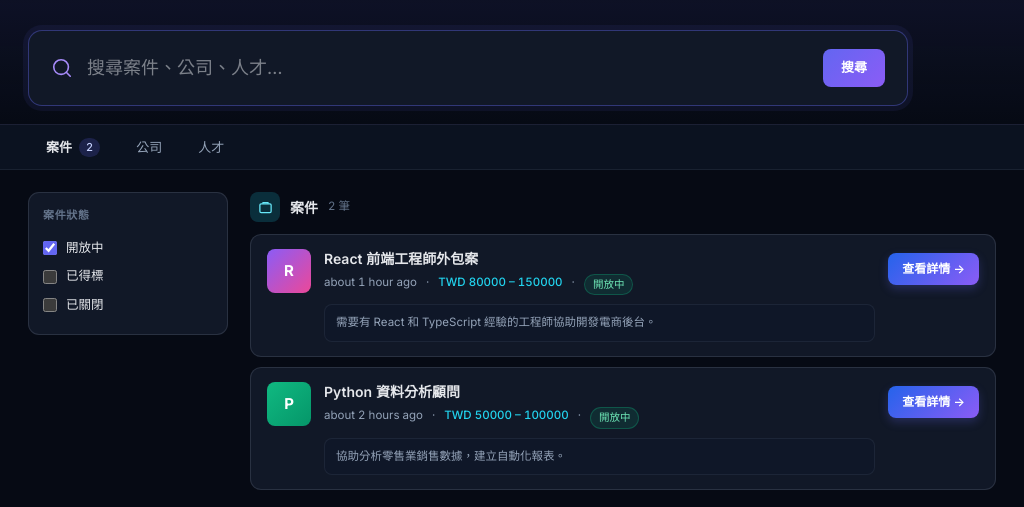
Test case: SearchPage — user interaction › switches to 公司 tab and shows empty-state
Step 1. Click the tab "公司" → (149, 147), box [118,124,180,170]
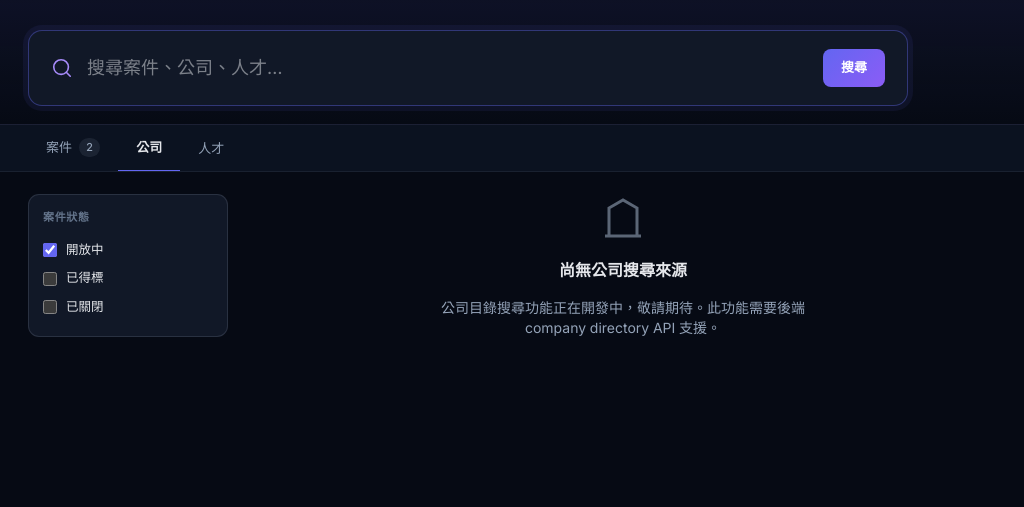
Expected: the text "尚無公司搜尋來源" is shown, [559,258,687,282]
